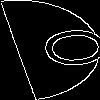O: (25, 25, 100, 73)
